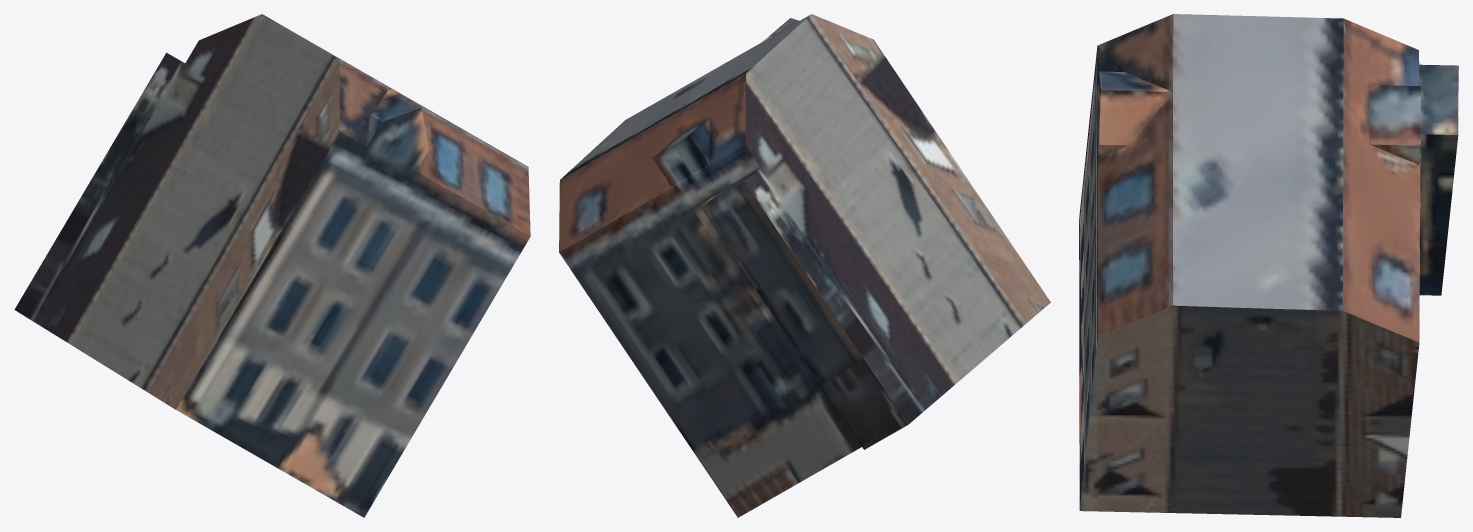
3 renders of one model, left to right at view 1: azimuth 30°, elevation 25°; view 2: azimuth 150°, elevation 25°; view 3: azimuth 270°, elevation 25°, orthographic. The views are drawn at different scales.
Parts seen in each view (by area): view 1: BAG_0599100000688727 (×4); view 2: BAG_0599100000688727 (×5); view 3: BAG_0599100000688727 (×6).
Part boxes in pixels (x1,y1,x2,y2): BAG_0599100000688727 (×4): (14,14,530,517); BAG_0599100000688727 (×5): (559,14,1050,517); BAG_0599100000688727 (×6): (1079,14,1458,517).
Bounding box in the file's own units: 15.53 × 16.14 × 10.76.
8 materials, 8 textured.
